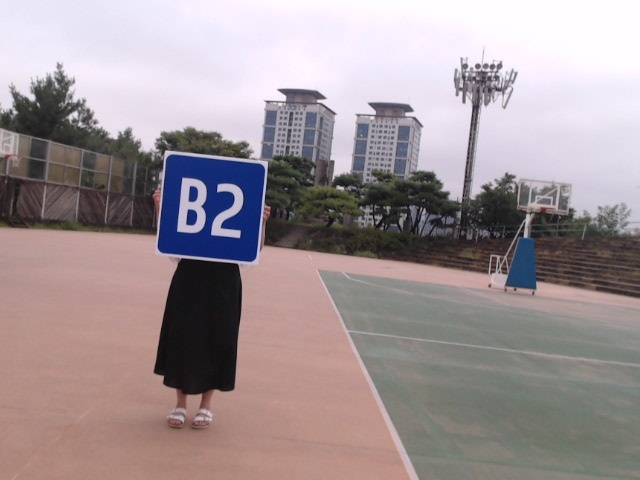delivery_b2: (155, 152, 267, 263)
